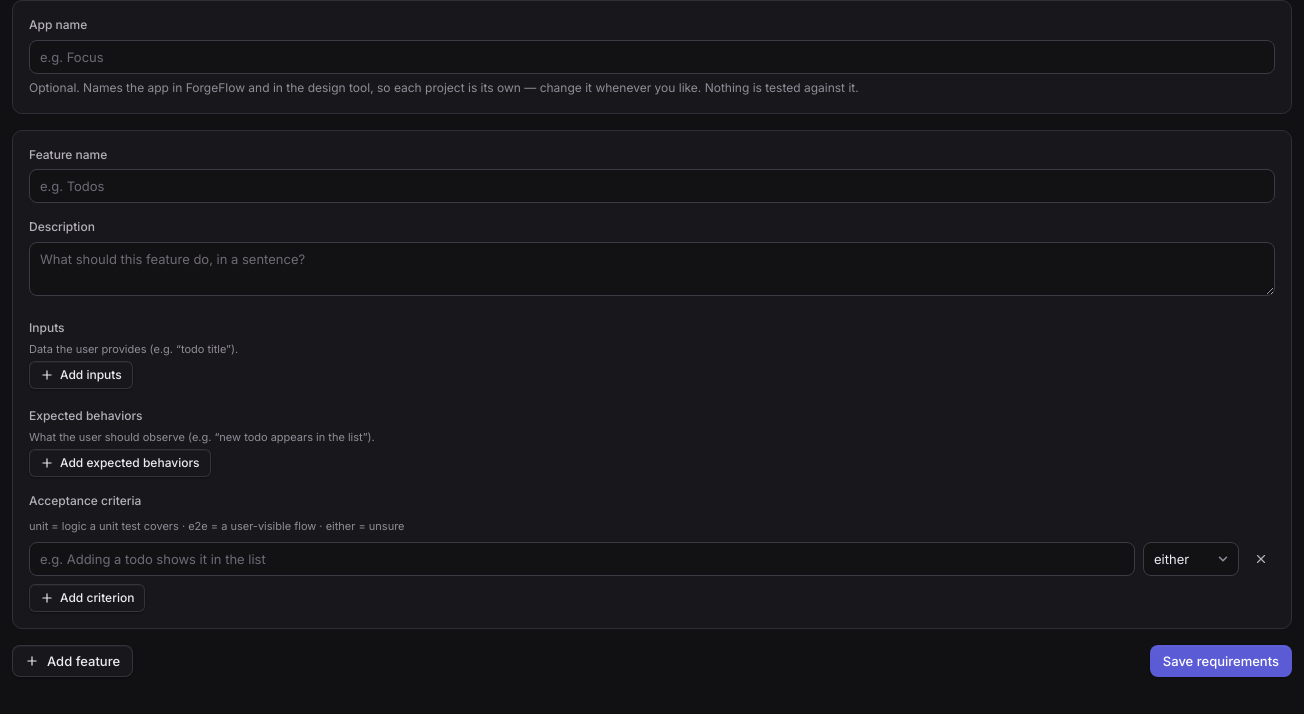
it: RequirementsForm › blocks save and shows an inline error for a missing feature name
Type "something" into the field with test id "criterion-text-0-0" at (582, 559), box x1=29 y1=542 x2=1135 y2=576
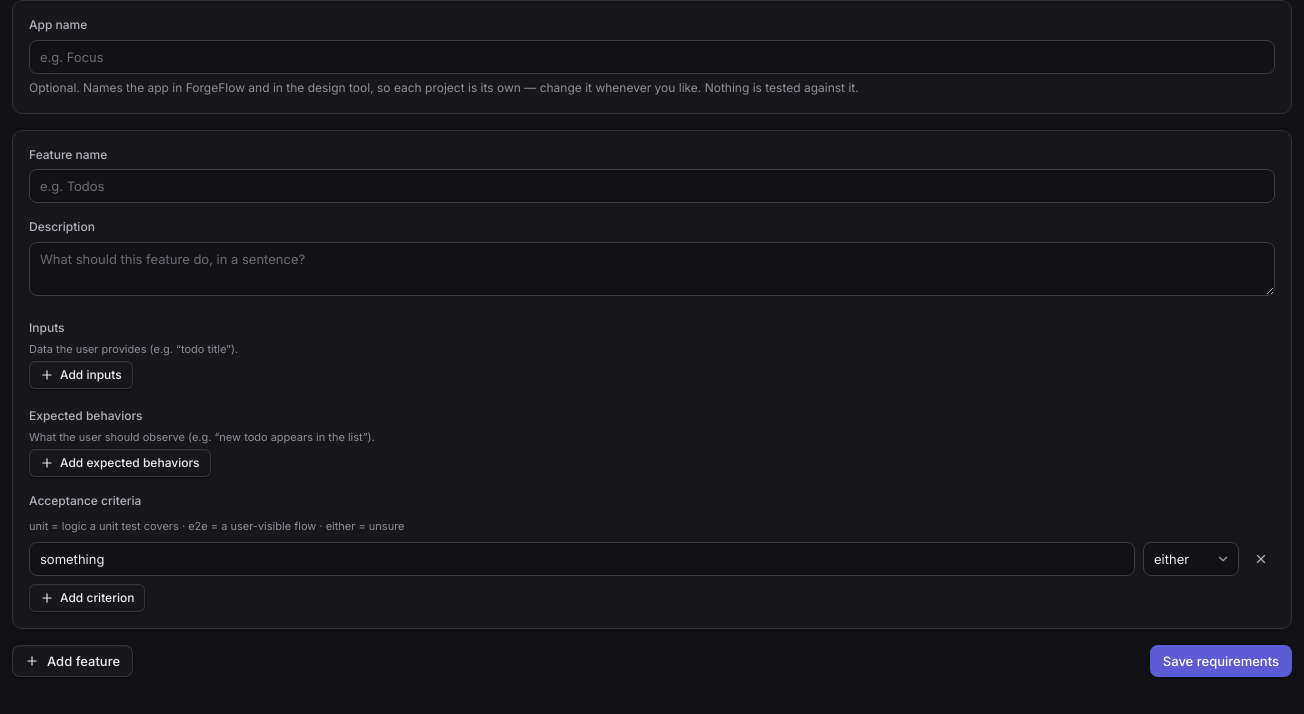
Click the button with test id "requirements-save" at (1221, 661), box x1=1150 y1=645 x2=1292 y2=677
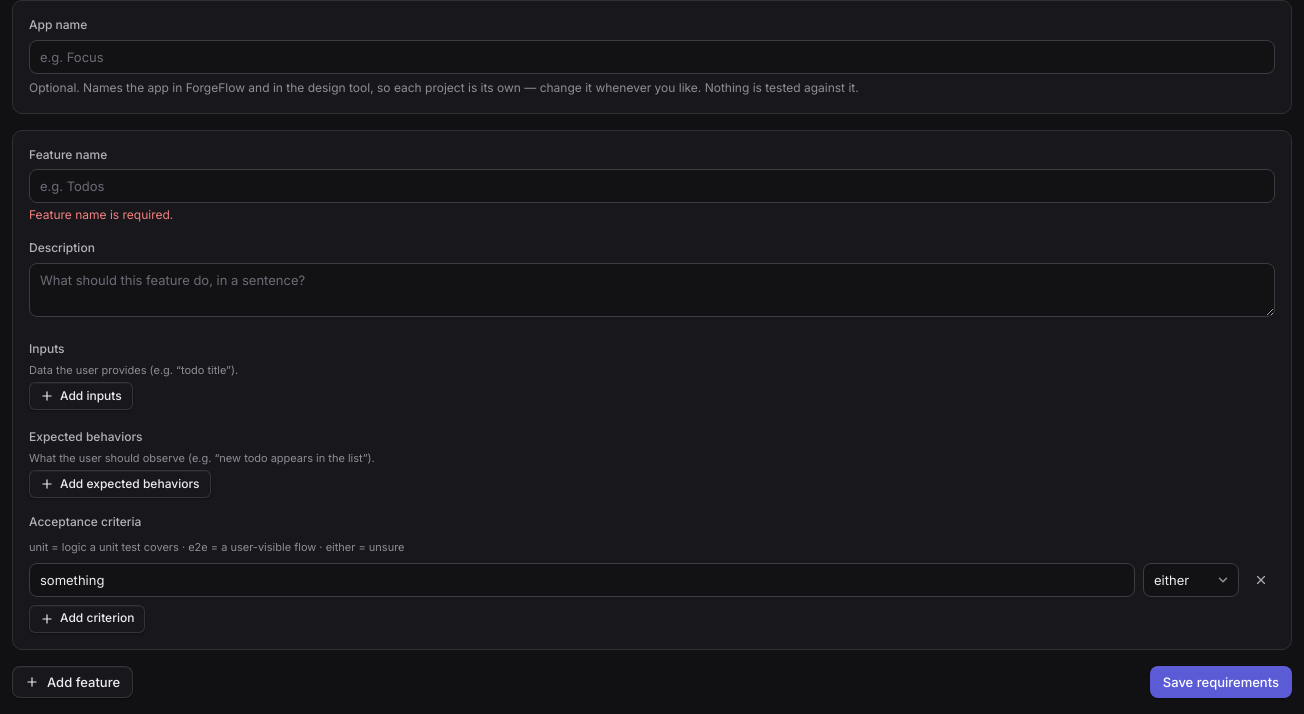
Result: the text "Feature name is required." is shown at x1=29 y1=207 x2=173 y2=222
